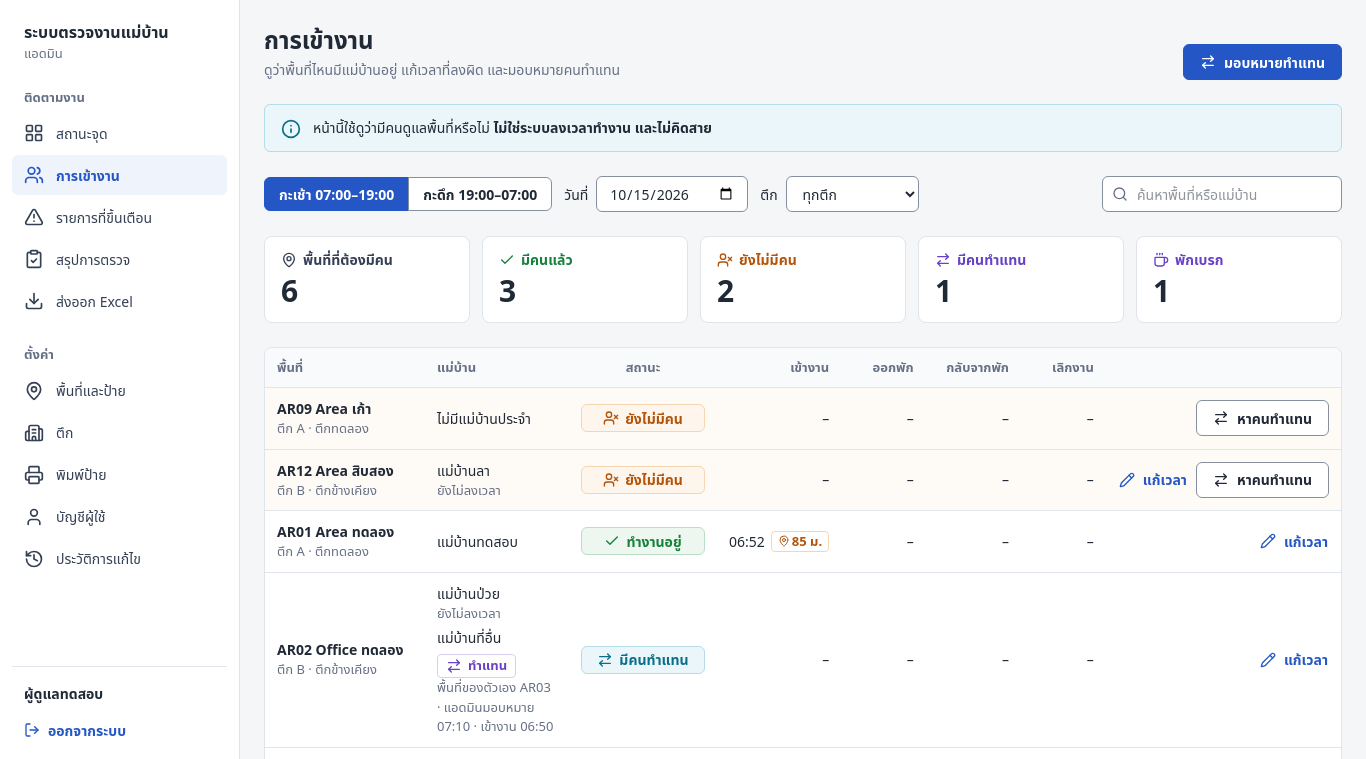
AttendancePage (D2, facility-0027, 0050) › search keeps the Areas whose name, Cleaner or cover matches
Type "ที่อื่น" into the search field labelled "ค้นหาพื้นที่หรือแม่บ้าน" at (1222, 194), box [1102, 176, 1342, 212]
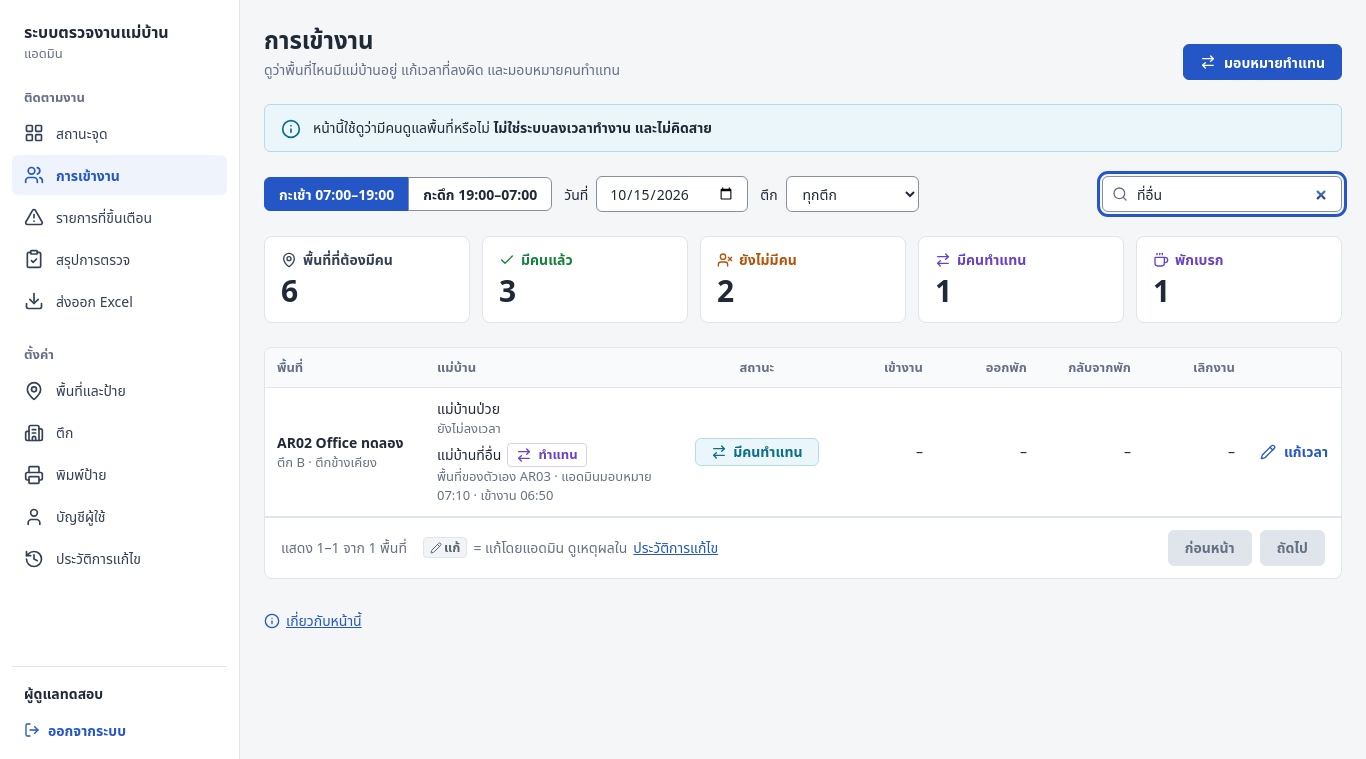
Replace the text in the search field named "ค้นหาพื้นที่หรือแม่บ้าน" with "ไม่มีชื่อนี้" at (1222, 194), box [1102, 176, 1342, 212]
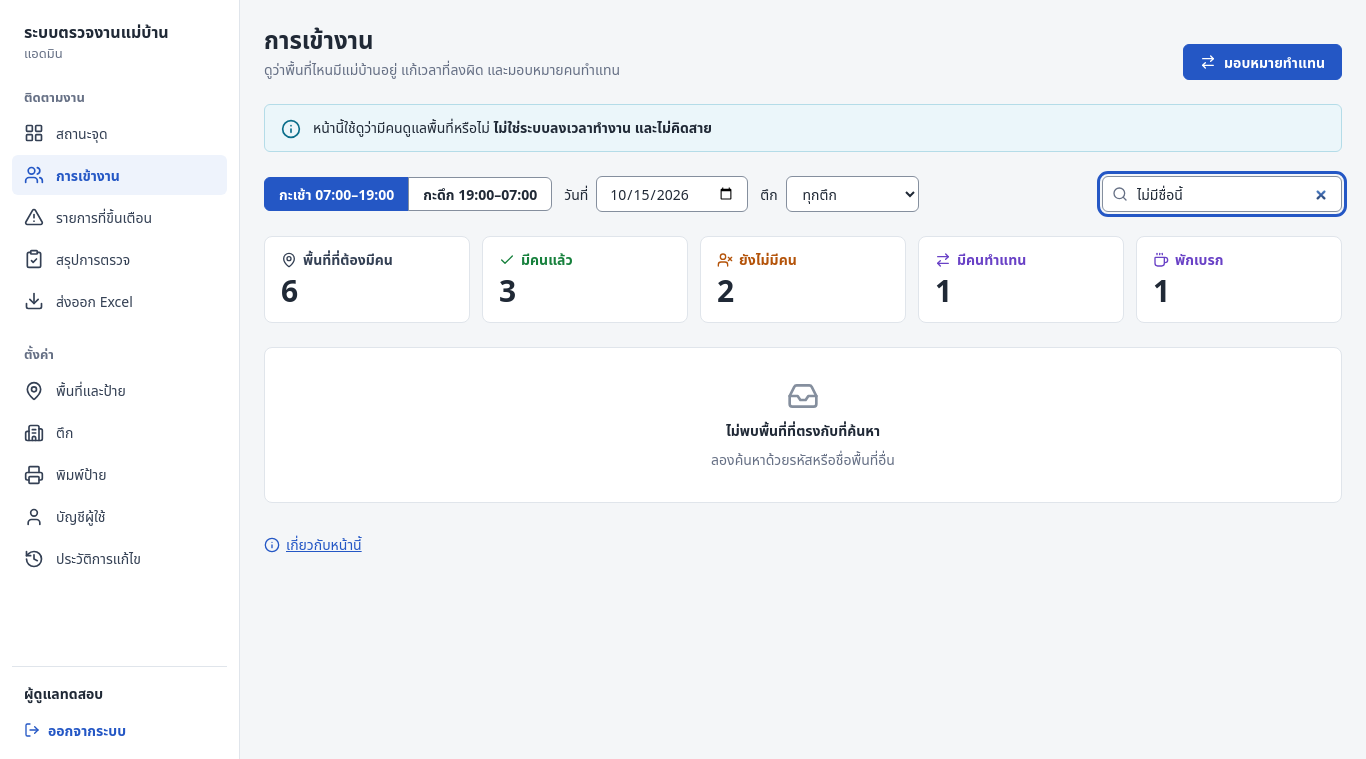
Expected: the text "ไม่พบพื้นที่ที่ตรงกับที่ค้นหา" is shown, [726, 420, 880, 441]
